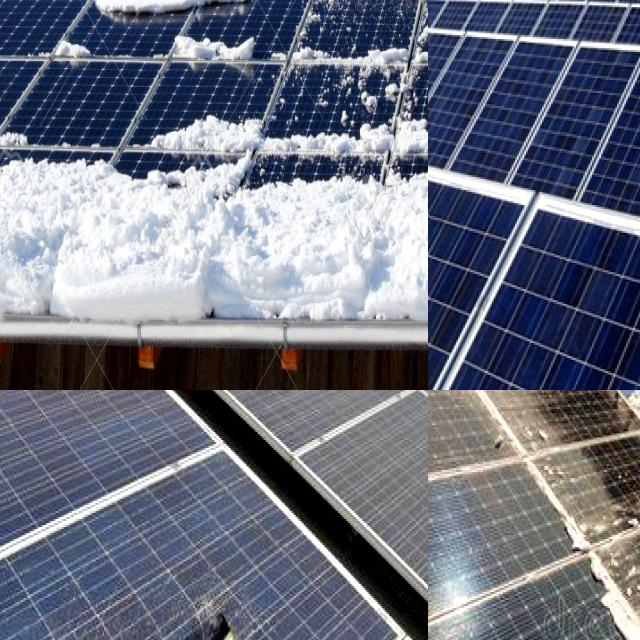crack: (428, 201, 614, 390), (428, 255, 640, 390)
hotspot: (14, 607, 273, 640)
panel: (0, 108, 145, 257), (531, 449, 640, 640), (144, 98, 280, 232), (303, 109, 414, 214), (286, 0, 384, 96), (82, 0, 158, 89), (190, 0, 281, 58), (351, 0, 428, 64), (168, 25, 269, 72), (598, 531, 640, 640), (0, 0, 73, 55), (52, 32, 122, 79), (289, 0, 344, 59), (560, 492, 598, 561), (395, 0, 428, 74), (551, 390, 602, 423), (0, 0, 78, 20), (165, 0, 191, 52)
